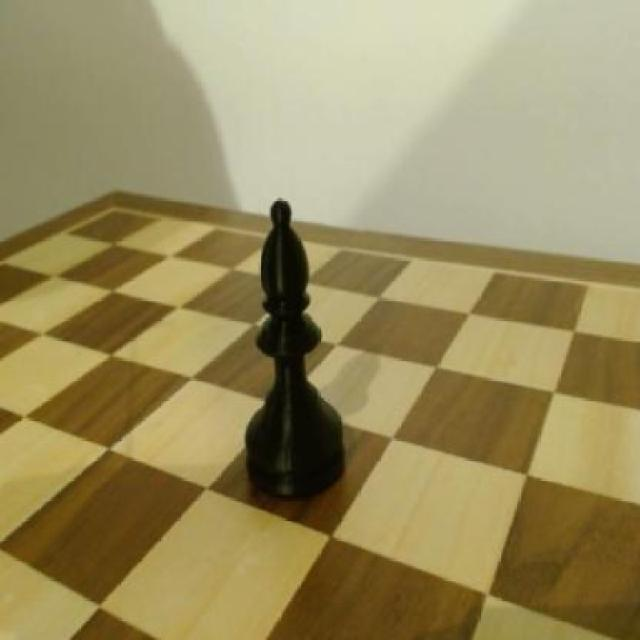bishop: (240, 192, 352, 505)
